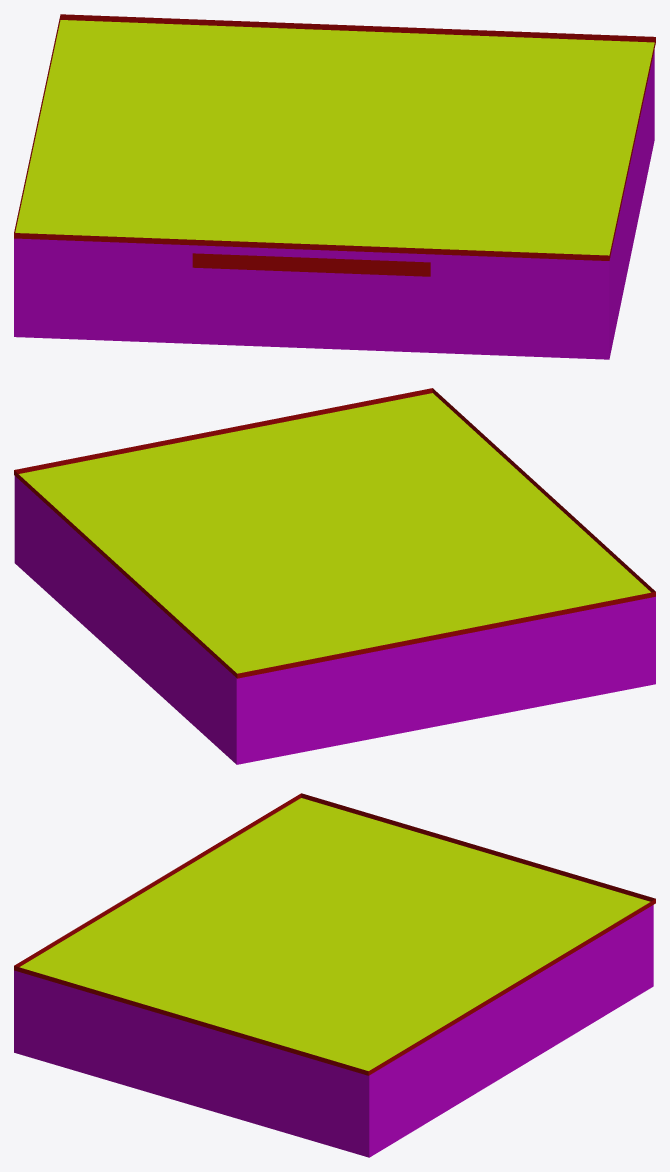
The model's file is bgj_182.glb.
The picture shows the model from 3 angles, top to bottom: view 1: azimuth 30°, elevation 25°; view 2: azimuth 150°, elevation 25°; view 3: azimuth 270°, elevation 25°; orthographic projection. The views are drawn at different scales.
Visible parts, largest first — view 1: bgj_182; view 2: bgj_182; view 3: bgj_182.
Boxes of the visible parts, left/top/right/bottom form: bgj_182: left=14, top=14, right=655, bottom=359; bgj_182: left=14, top=388, right=655, bottom=764; bgj_182: left=14, top=793, right=655, bottom=1157.
Bounding box in the file's own units: 44.69 × 6.52 × 43.61.
